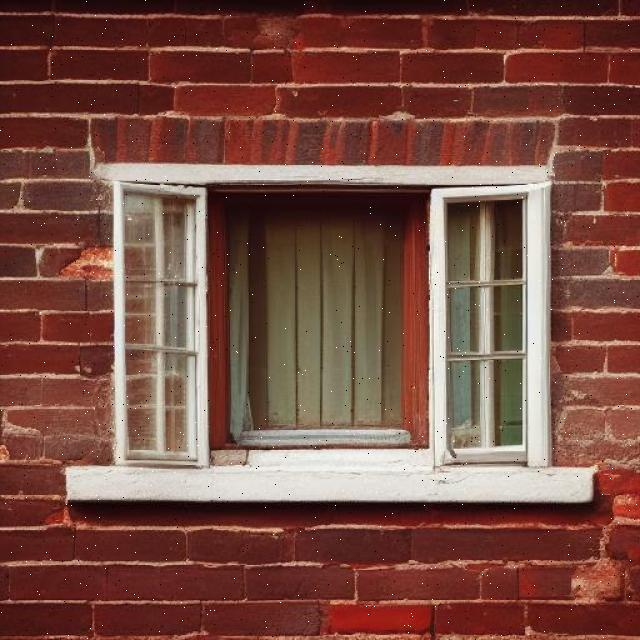window: (198, 180, 486, 464)
